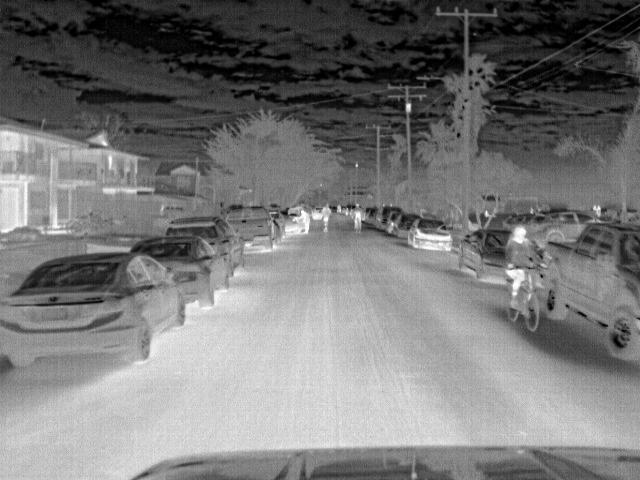car: (2, 251, 188, 370), (542, 220, 639, 359), (129, 237, 229, 305), (165, 217, 241, 274), (457, 226, 512, 281), (532, 209, 600, 244), (222, 206, 272, 250), (407, 218, 454, 250), (397, 214, 421, 239), (378, 204, 401, 230), (386, 211, 403, 233), (367, 208, 381, 225)
person: (502, 226, 540, 306), (290, 207, 312, 234), (320, 202, 335, 232), (352, 206, 365, 231)
